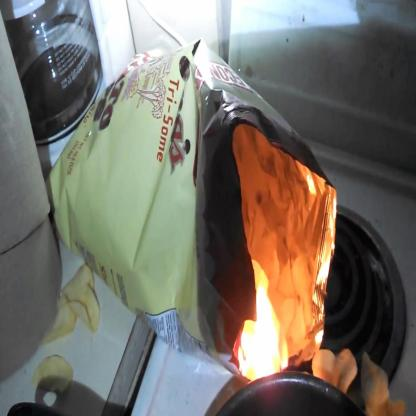fire: (234, 260, 293, 384)
